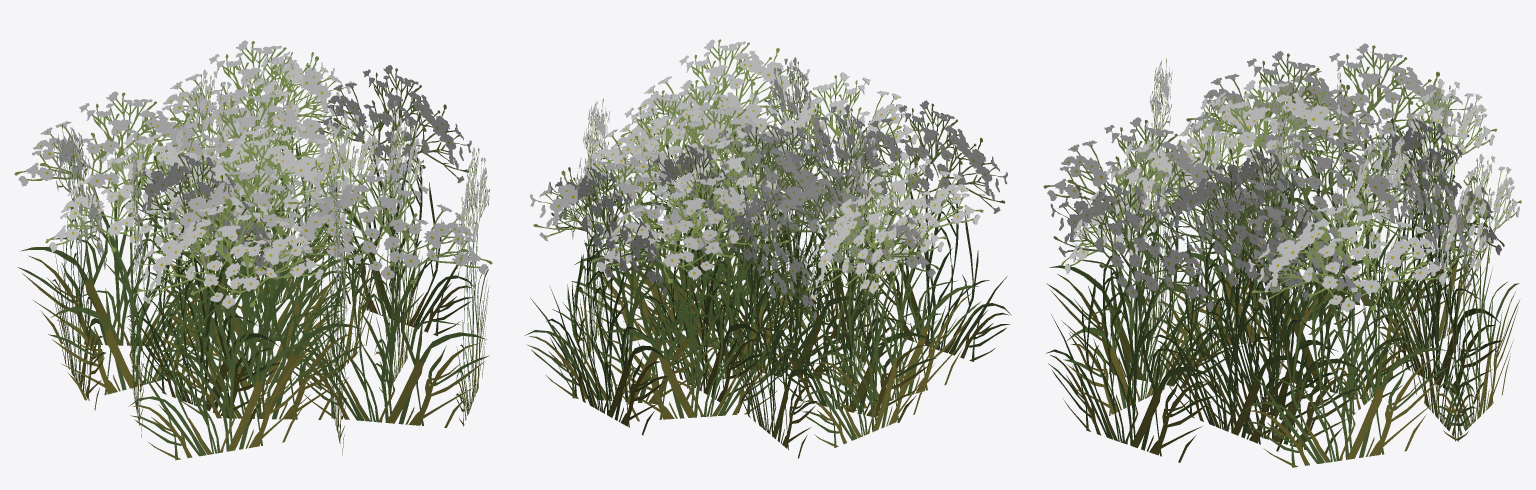
Rendered from space_wild_chamomile.fbx.
3 views of the same model, side by side, from view 1: azimuth 30°, elevation 25°; view 2: azimuth 150°, elevation 25°; view 3: azimuth 270°, elevation 25° (orthographic). The views are drawn at different scales.
Visible parts, largest first — view 1: Cube_28; view 2: Cube_28; view 3: Cube_28.
Boxes of the visible parts, box(x1,y1,x2,y2) form: Cube_28: box(14, 40, 492, 460); Cube_28: box(524, 39, 1011, 458); Cube_28: box(1043, 43, 1521, 467).
Bounding box in the file's own units: 73.32 × 46.68 × 75.93.
Materials: 1 (1 with a texture image).
